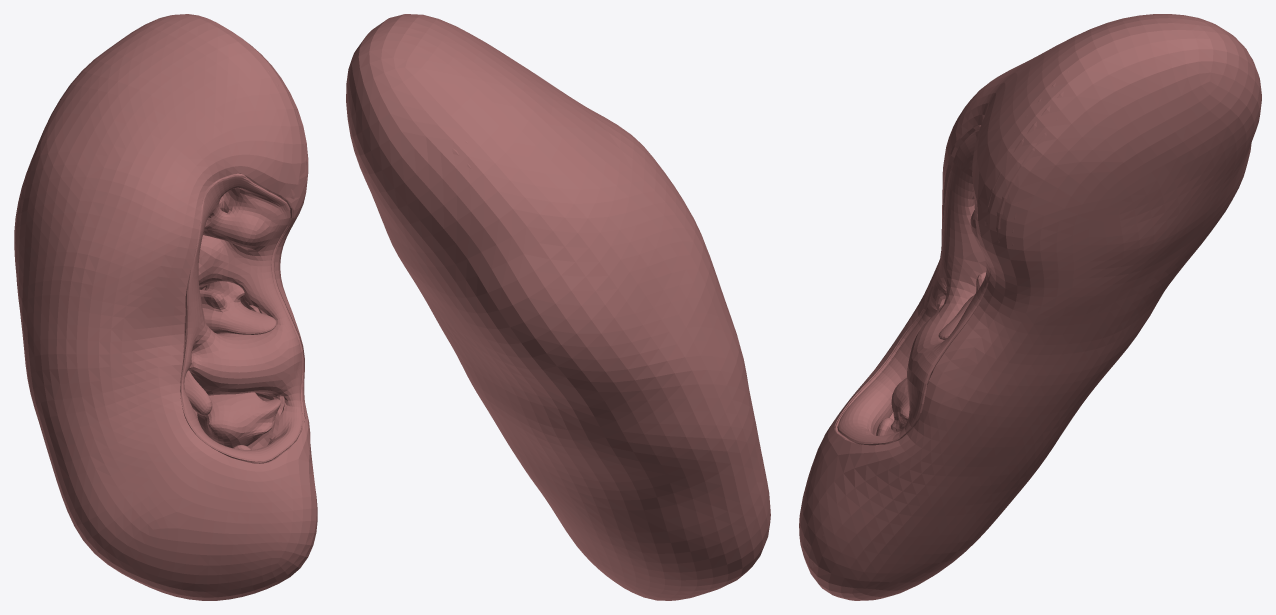
The model's file is kidney_right.glb.
3 renders of one model, left to right at view 1: azimuth 30°, elevation 25°; view 2: azimuth 150°, elevation 25°; view 3: azimuth 270°, elevation 25°, orthographic. The views are drawn at different scales.
Parts seen in each view (by area): view 1: kidney_right; view 2: kidney_right; view 3: kidney_right.
Boxes of the visible parts, left/top/right/bottom form: kidney_right: left=14, top=14, right=317, bottom=600; kidney_right: left=346, top=14, right=770, bottom=600; kidney_right: left=799, top=14, right=1261, bottom=600.
Bounding box in the file's own units: 0.0655 × 0.1125 × 0.0764.
